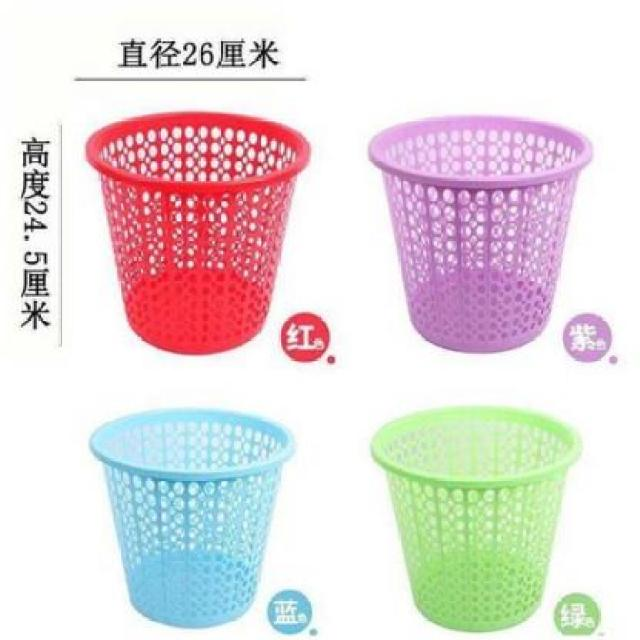dustbin: (82, 106, 316, 359), (363, 110, 597, 356), (366, 400, 587, 635), (85, 402, 300, 628)
